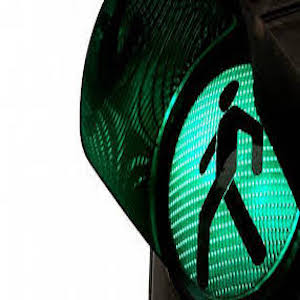green: (172, 87, 277, 261)
